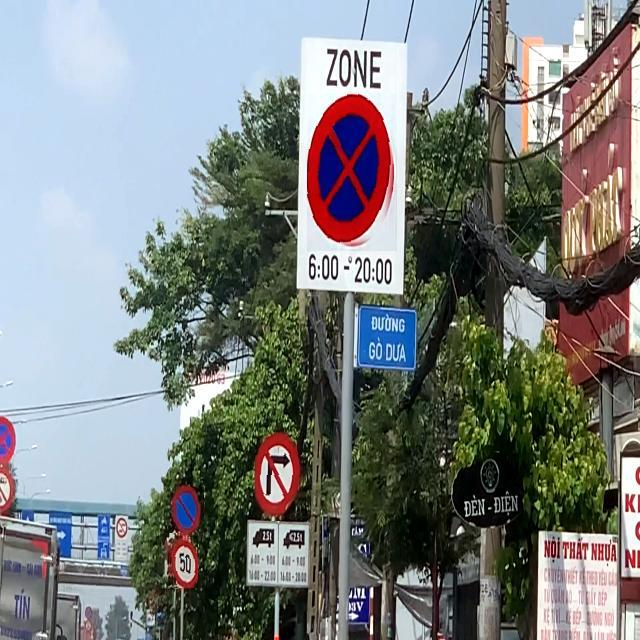P-123b: (255, 426, 306, 521)
P-127: (168, 536, 198, 588)
P-130: (307, 93, 397, 251)
P-131a: (164, 479, 204, 533)
